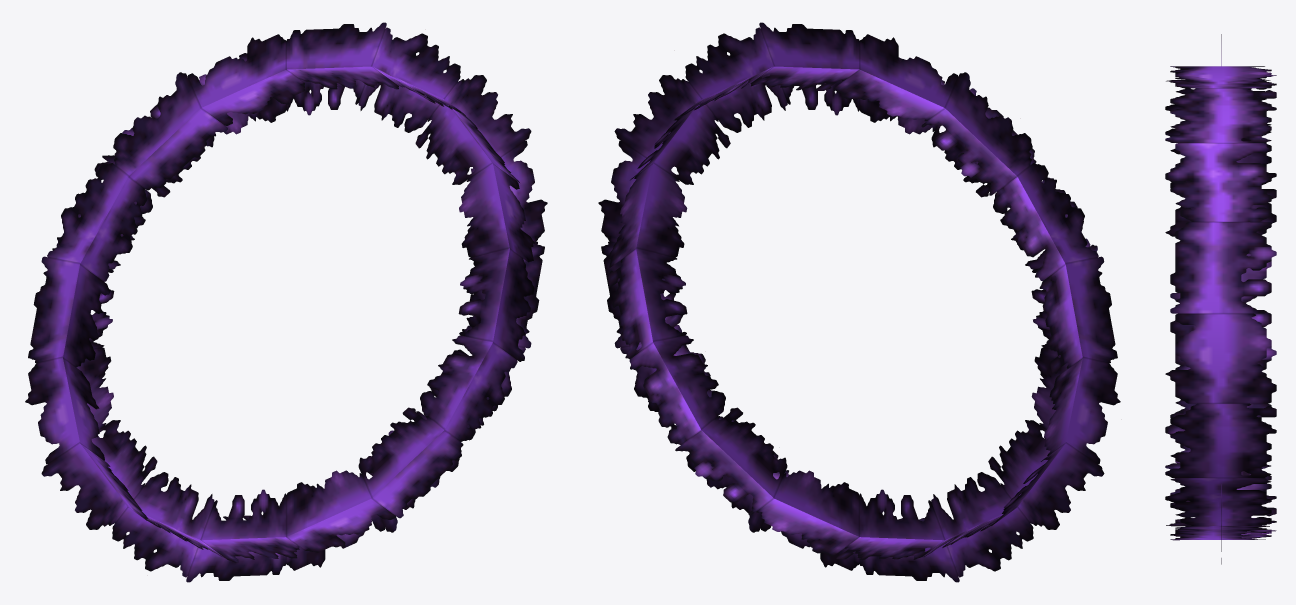
3 views of the same model, side by side, from view 1: azimuth 30°, elevation 25°; view 2: azimuth 150°, elevation 25°; view 3: azimuth 270°, elevation 25° (orthographic). The views are drawn at different scales.
Parts seen in each view (by area): view 1: T1L3M005_13; view 2: T1L3M005_13; view 3: T1L3M005_13.
Part boxes in pixels (x1,y1,x2,y2): T1L3M005_13: (25, 22, 547, 582); T1L3M005_13: (598, 22, 1120, 582); T1L3M005_13: (1165, 34, 1276, 564).
Bounding box in the file's own units: 2.83 × 2.83 × 0.5957.
